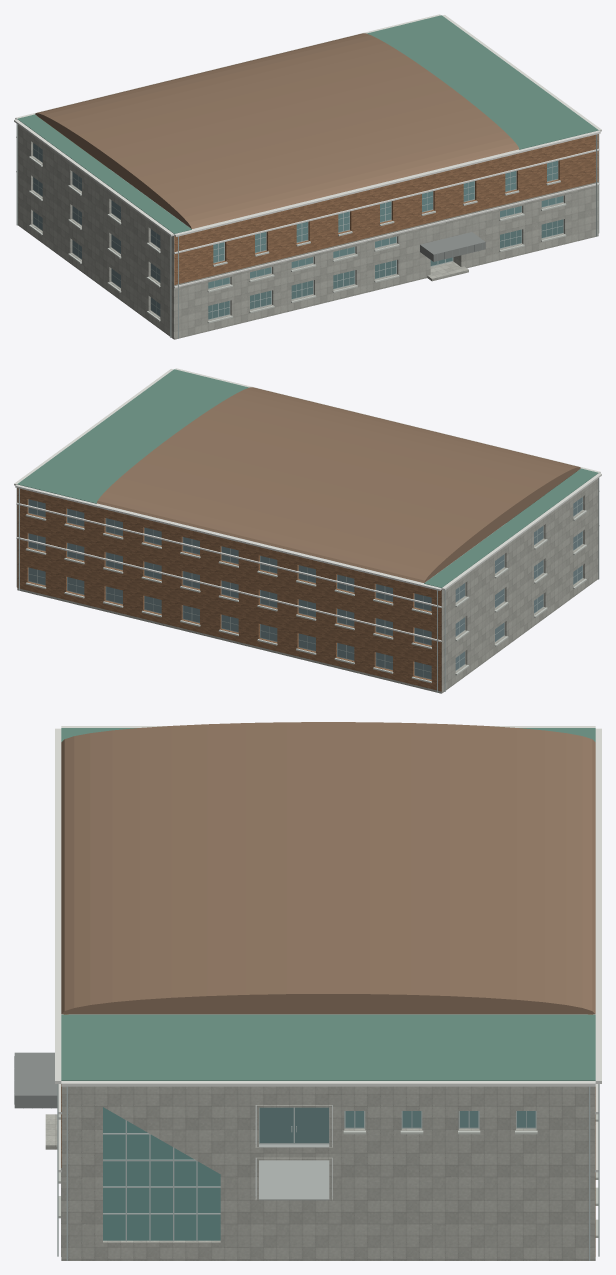
3 renders of one model, top to bottom at view 1: azimuth 30°, elevation 25°; view 2: azimuth 150°, elevation 25°; view 3: azimuth 270°, elevation 25°, orthographic. The views are drawn at different scales.
Visible parts, largest first — view 1: gyeonginHall__metalroof, gyeonginHall__stone, gyeonginHall__brick, gyeonginHall__waterproof, gyeonginHall__band, gyeonginHall__hallglass, gyeonginHall__frame, gyeonginHall__glass, gyeonginHall__sill, gyeonginHall__backglass, gyeonginHall__entry, gyeonginHall__steel (+1 smaller); view 2: gyeonginHall__metalroof, gyeonginHall__brick, gyeonginHall__stone, gyeonginHall__waterproof, gyeonginHall__backglass, gyeonginHall__band, gyeonginHall__sill, gyeonginHall__frame, gyeonginHall__steel; view 3: gyeonginHall__metalroof, gyeonginHall__stone, gyeonginHall__waterproof, gyeonginHall__stairglass, gyeonginHall__band, gyeonginHall__bridge-closed-glass, gyeonginHall__slab, gyeonginHall__entry, gyeonginHall__frame, gyeonginHall__bridge-landing, gyeonginHall__steel, gyeonginHall__hallglass (+1 smaller).
Boxes of the visible parts, x1,y1,x2,y2 form: gyeonginHall__metalroof: (35, 33, 518, 228); gyeonginHall__stone: (17, 124, 598, 339); gyeonginHall__brick: (39, 117, 598, 284); gyeonginHall__waterproof: (17, 15, 598, 233); gyeonginHall__band: (14, 14, 601, 288); gyeonginHall__hallglass: (208, 160, 563, 288); gyeonginHall__frame: (33, 143, 563, 319); gyeonginHall__glass: (208, 219, 563, 319); gyeonginHall__sill: (29, 156, 566, 323); gyeonginHall__backglass: (33, 143, 160, 316); gyeonginHall__entry: (420, 232, 485, 261); gyeonginHall__steel: (16, 124, 599, 338); gyeonginHall__metalroof: (97, 387, 580, 582); gyeonginHall__brick: (17, 471, 576, 691); gyeonginHall__stone: (17, 478, 598, 693); gyeonginHall__waterproof: (17, 369, 598, 587); gyeonginHall__backglass: (29, 497, 582, 679); gyeonginHall__band: (14, 368, 601, 642); gyeonginHall__sill: (25, 510, 586, 683); gyeonginHall__frame: (28, 497, 582, 679); gyeonginHall__steel: (16, 478, 599, 692); gyeonginHall__metalroof: (61, 722, 595, 1014); gyeonginHall__stone: (61, 1014, 595, 1260); gyeonginHall__waterproof: (61, 728, 595, 1080); gyeonginHall__stairglass: (103, 1107, 220, 1240); gyeonginHall__band: (55, 726, 601, 1172); gyeonginHall__bridge-closed-glass: (259, 1107, 328, 1142); gyeonginHall__slab: (69, 1014, 587, 1196); gyeonginHall__entry: (14, 1052, 57, 1108); gyeonginHall__frame: (103, 1107, 536, 1241); gyeonginHall__bridge-landing: (256, 1132, 332, 1200); gyeonginHall__steel: (57, 1084, 599, 1260); gyeonginHall__hallglass: (345, 1111, 535, 1127).
Bounding box in the file's own units: 48.89 × 12.82 × 33.95.
15 materials, 2 textured.
